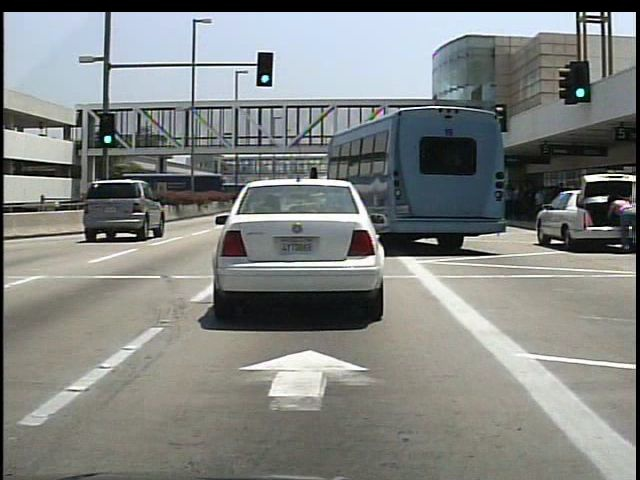person: (608, 191, 639, 254)
